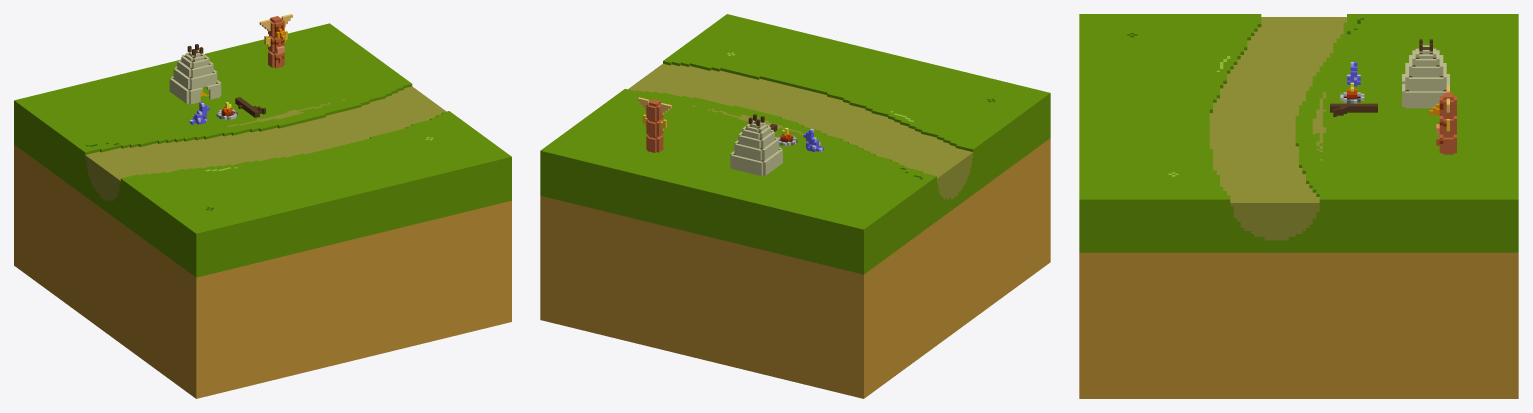
The picture shows the model from 3 angles, left to right: view 1: azimuth 30°, elevation 25°; view 2: azimuth 150°, elevation 25°; view 3: azimuth 270°, elevation 25°; orthographic projection. The views are drawn at different scales.
Visible parts, largest first — view 1: 8H; view 2: 8H; view 3: 8H.
Part boxes in pixels (box(x1,y1,x2,y2)): 8H: box(14, 14, 511, 398); 8H: box(540, 14, 1050, 398); 8H: box(1079, 14, 1518, 398).
Size of the model in its own units: 12.8 by 8.2 by 12.8.
1 material, 1 textured.
